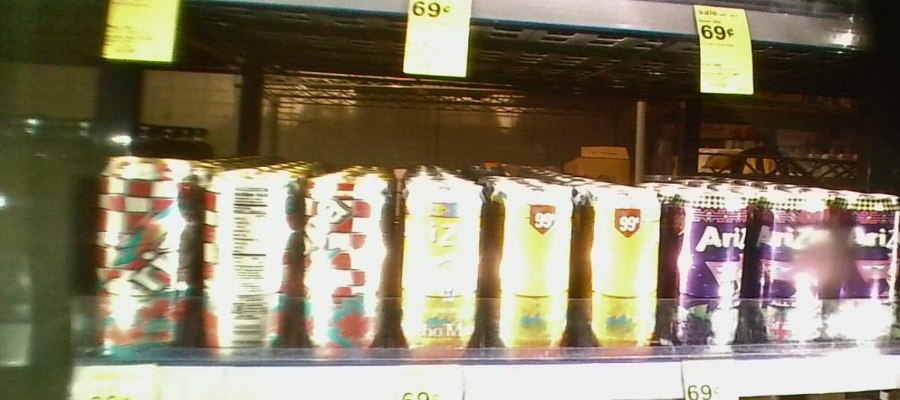bottle: (93, 144, 197, 358), (201, 160, 298, 358), (303, 157, 393, 361), (397, 163, 485, 361), (487, 168, 578, 358), (664, 172, 748, 358), (750, 173, 834, 356), (579, 173, 660, 358), (837, 181, 899, 355)
